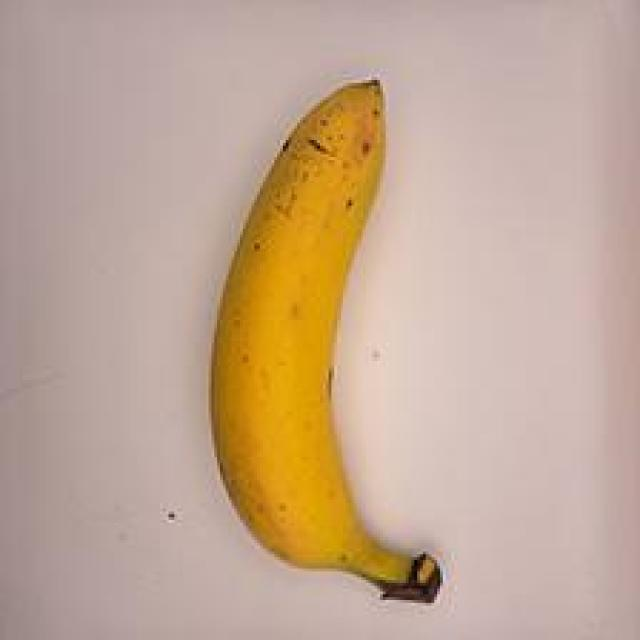Ripe: (163, 51, 482, 618)
